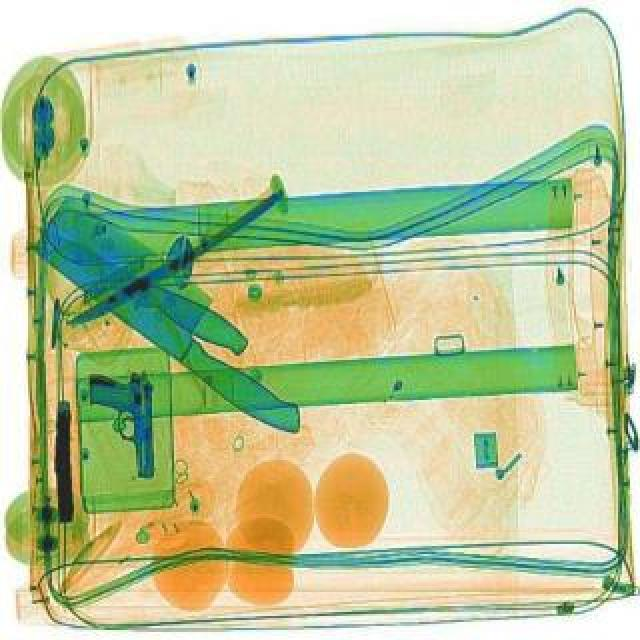gun: (86, 368, 158, 480), (50, 398, 72, 522)
knife: (14, 192, 342, 442), (22, 206, 252, 358), (60, 188, 290, 328)
